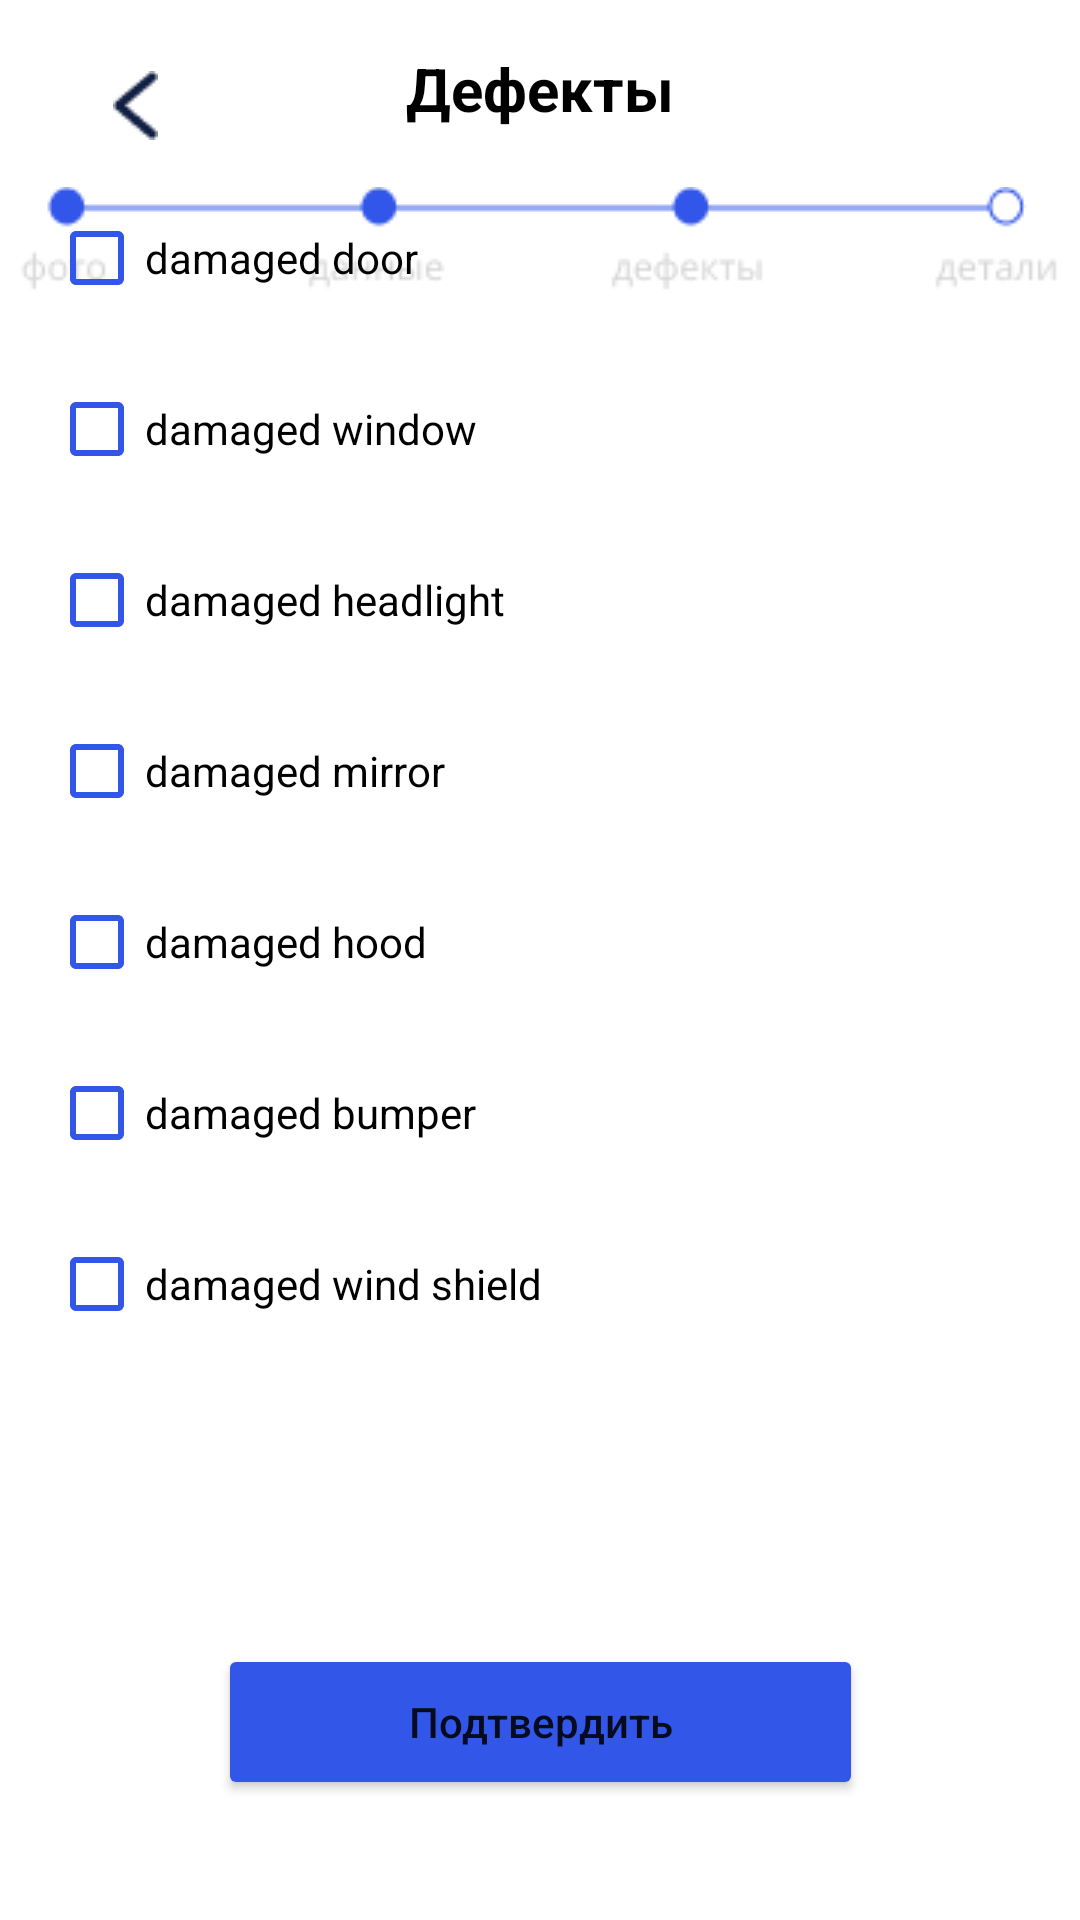

Icons on this 1080x1920 Android screen, each with its box as Rect(x1, y1, x2, y2):
backbutton: Rect(113, 71, 158, 140)
